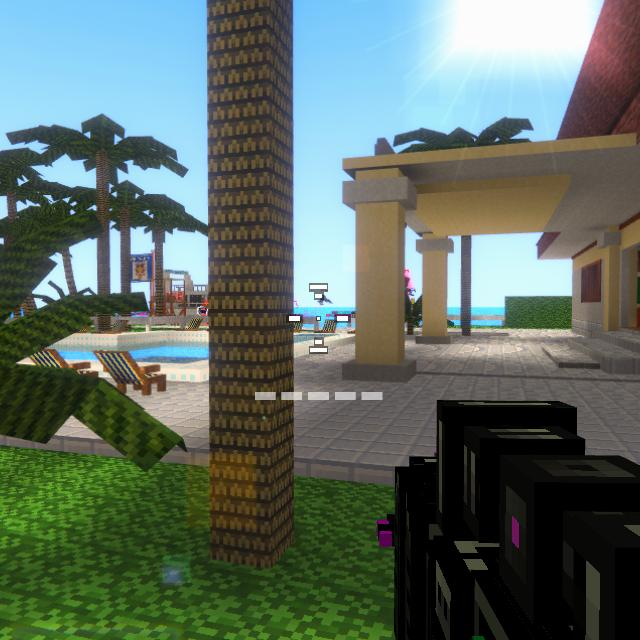Enemy: (404, 275, 411, 295)
